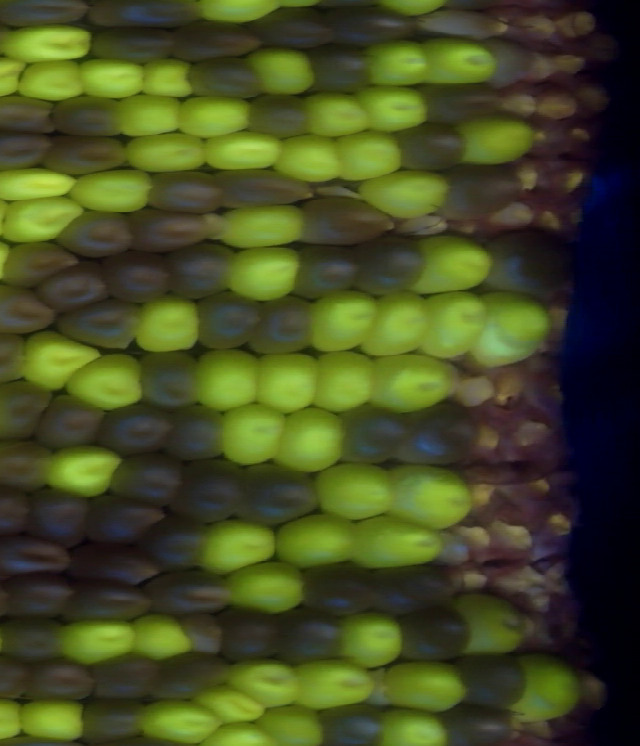fluorescent: (379, 456, 483, 538), (468, 283, 556, 368), (345, 507, 450, 576), (364, 349, 465, 419), (399, 231, 497, 303), (267, 506, 369, 574), (447, 583, 531, 662), (510, 648, 591, 729), (14, 325, 102, 399), (351, 164, 457, 225), (309, 459, 402, 526), (302, 285, 383, 361), (268, 404, 350, 479), (193, 516, 289, 580), (290, 649, 382, 715), (415, 285, 493, 362), (378, 659, 478, 719), (214, 396, 292, 472), (357, 286, 434, 362), (307, 343, 383, 418), (39, 442, 128, 506), (212, 198, 312, 254), (411, 27, 501, 89), (221, 241, 309, 304), (193, 344, 268, 417), (53, 615, 147, 673), (127, 290, 206, 359), (331, 120, 408, 189), (67, 348, 150, 412), (224, 556, 307, 620), (221, 655, 309, 714), (330, 606, 408, 672), (65, 166, 162, 219), (0, 18, 101, 67), (269, 127, 348, 189), (0, 193, 89, 248), (250, 348, 323, 415), (137, 693, 228, 746), (239, 42, 323, 99), (454, 112, 541, 166), (353, 80, 433, 137), (301, 84, 377, 144), (200, 127, 289, 178), (358, 31, 436, 89), (171, 89, 258, 141), (121, 128, 215, 176), (10, 53, 93, 107), (127, 605, 199, 667), (110, 89, 194, 142), (251, 698, 332, 746), (194, 680, 273, 728), (77, 54, 151, 104), (371, 702, 454, 746), (0, 161, 81, 205), (137, 51, 203, 105), (201, 717, 281, 746), (0, 52, 31, 102)
nonfluorescent: (482, 222, 581, 302), (391, 400, 486, 470), (433, 156, 524, 229), (165, 454, 257, 526), (234, 456, 325, 527), (292, 193, 405, 249), (79, 487, 172, 552), (296, 557, 386, 623), (53, 294, 147, 357), (371, 555, 457, 623), (212, 158, 320, 211), (91, 247, 181, 310), (66, 539, 168, 594), (386, 604, 477, 665), (132, 346, 216, 411), (92, 400, 183, 460), (452, 643, 531, 712), (47, 579, 158, 628), (188, 288, 270, 353), (138, 566, 238, 619), (30, 391, 111, 456), (284, 242, 366, 306), (351, 232, 428, 300), (104, 449, 191, 509), (327, 4, 425, 57), (23, 482, 96, 553), (390, 115, 472, 178), (269, 605, 348, 670), (333, 403, 414, 466), (163, 237, 240, 303), (166, 20, 267, 70), (38, 129, 135, 179), (158, 400, 229, 468), (242, 293, 321, 354), (149, 650, 235, 706), (124, 202, 213, 255), (142, 164, 230, 217), (31, 261, 120, 313), (134, 520, 216, 576), (183, 52, 268, 106), (417, 79, 510, 127), (86, 648, 165, 704), (0, 236, 80, 291), (48, 92, 131, 144), (0, 609, 68, 672), (239, 88, 314, 145), (22, 653, 102, 706), (81, 1, 208, 34), (220, 606, 291, 665), (434, 699, 523, 746), (303, 38, 372, 98), (74, 694, 153, 746), (60, 209, 140, 260), (246, 10, 340, 53), (0, 375, 56, 447), (0, 569, 81, 618), (83, 27, 184, 66), (411, 7, 511, 46), (0, 532, 79, 581), (0, 281, 62, 341), (0, 431, 56, 496), (314, 698, 387, 746), (478, 31, 536, 90), (0, 88, 60, 143), (0, 1, 99, 32), (172, 612, 229, 660), (0, 125, 55, 174), (0, 326, 31, 393), (0, 478, 34, 538), (0, 649, 30, 707)
